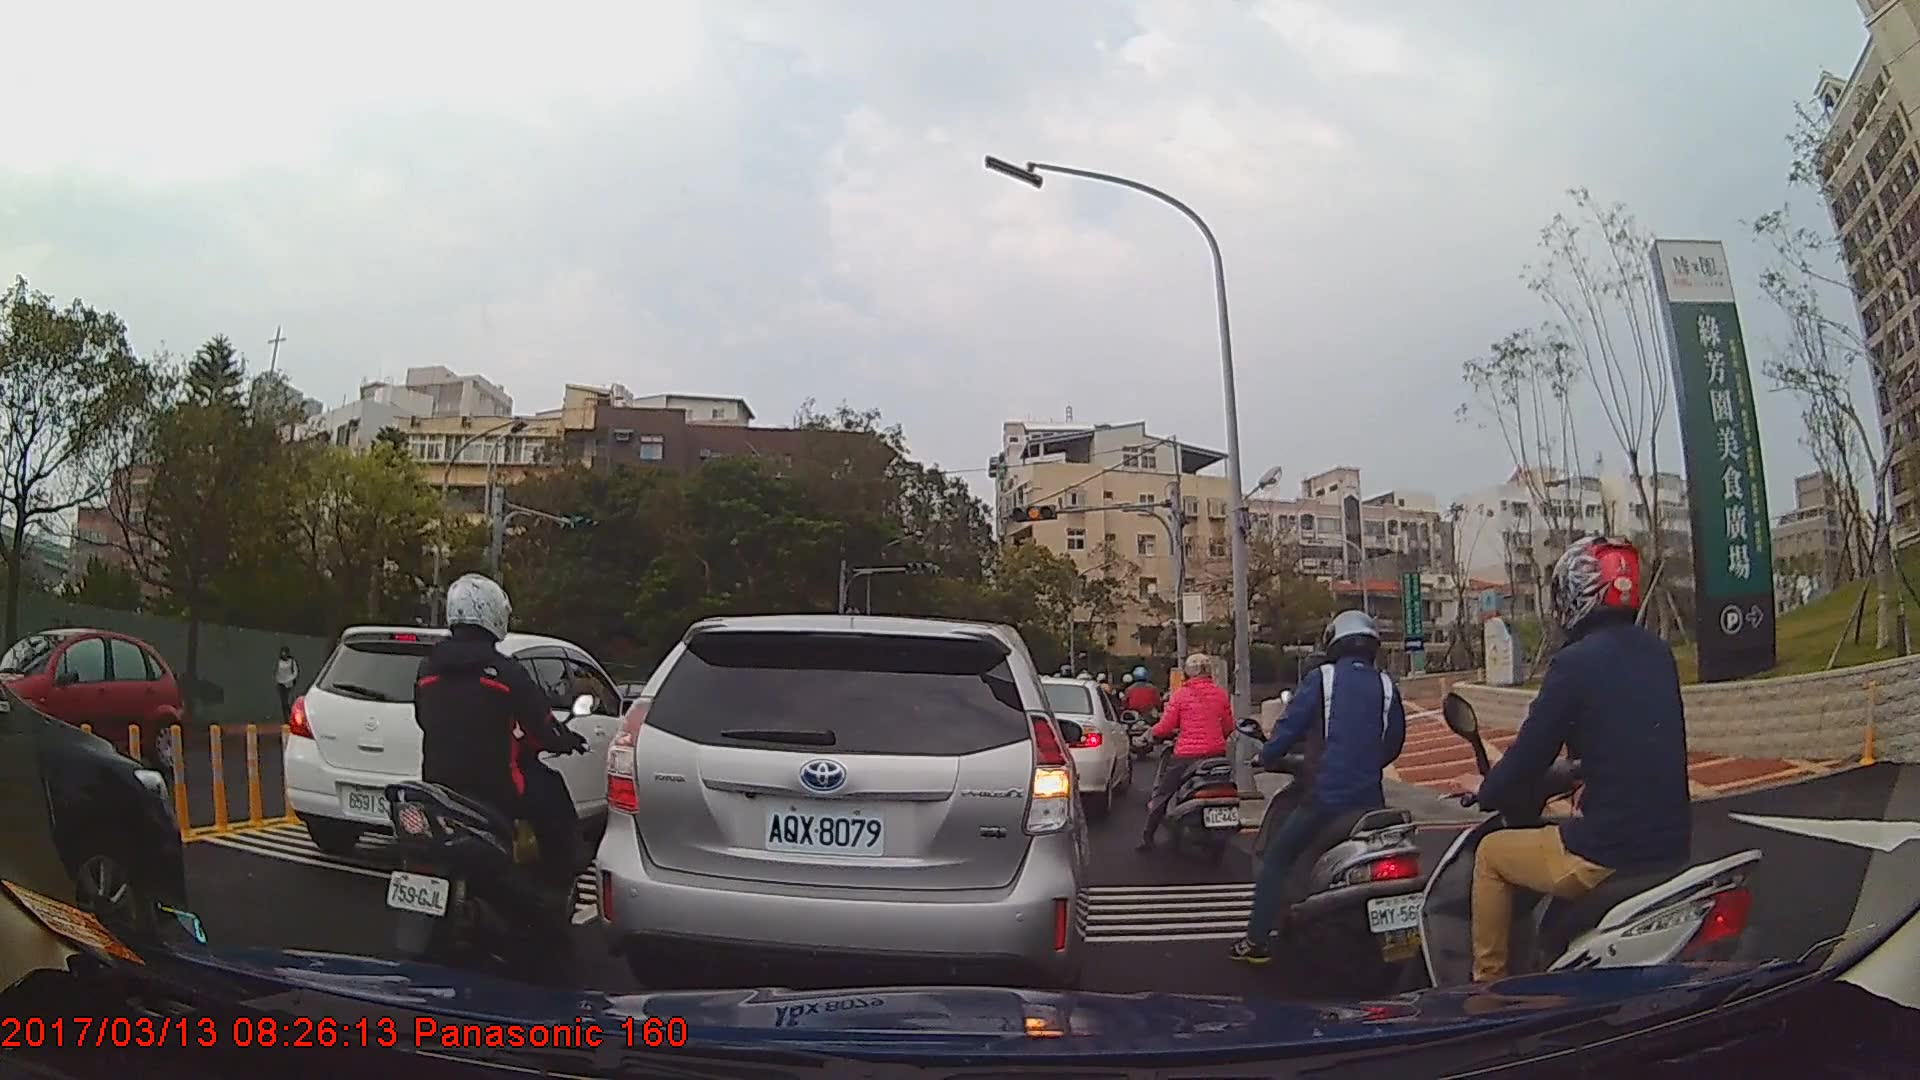pedestrian: (274, 648, 301, 725)
rider: (1423, 533, 1769, 1059), (384, 574, 596, 987), (1241, 608, 1437, 1000), (1140, 652, 1245, 866), (1122, 665, 1162, 763)
vehicle: (593, 612, 1089, 1005), (283, 626, 633, 865), (0, 675, 184, 953), (6, 626, 183, 767), (1022, 674, 1132, 813)
